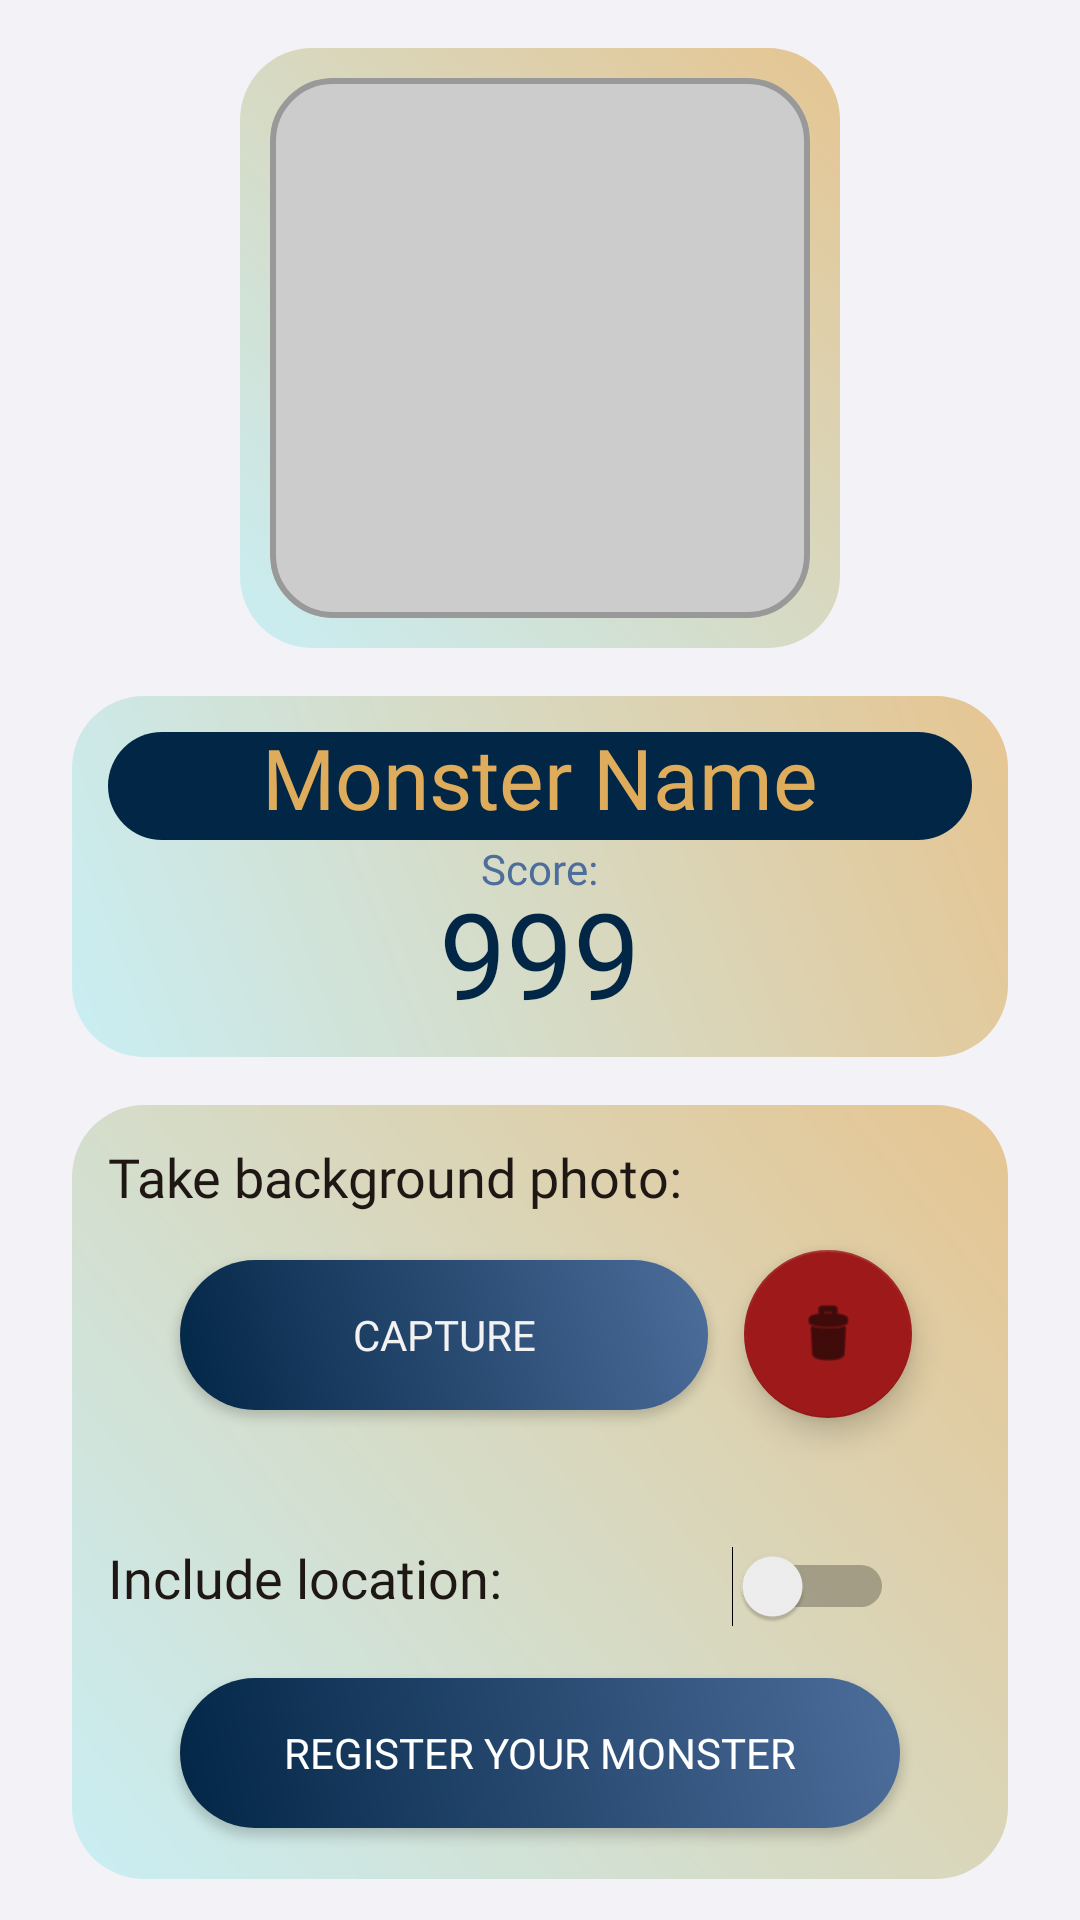

Point at icon controls on the screen. Image size 1080x1920, points as (x,y).
delete: (828,1334)
